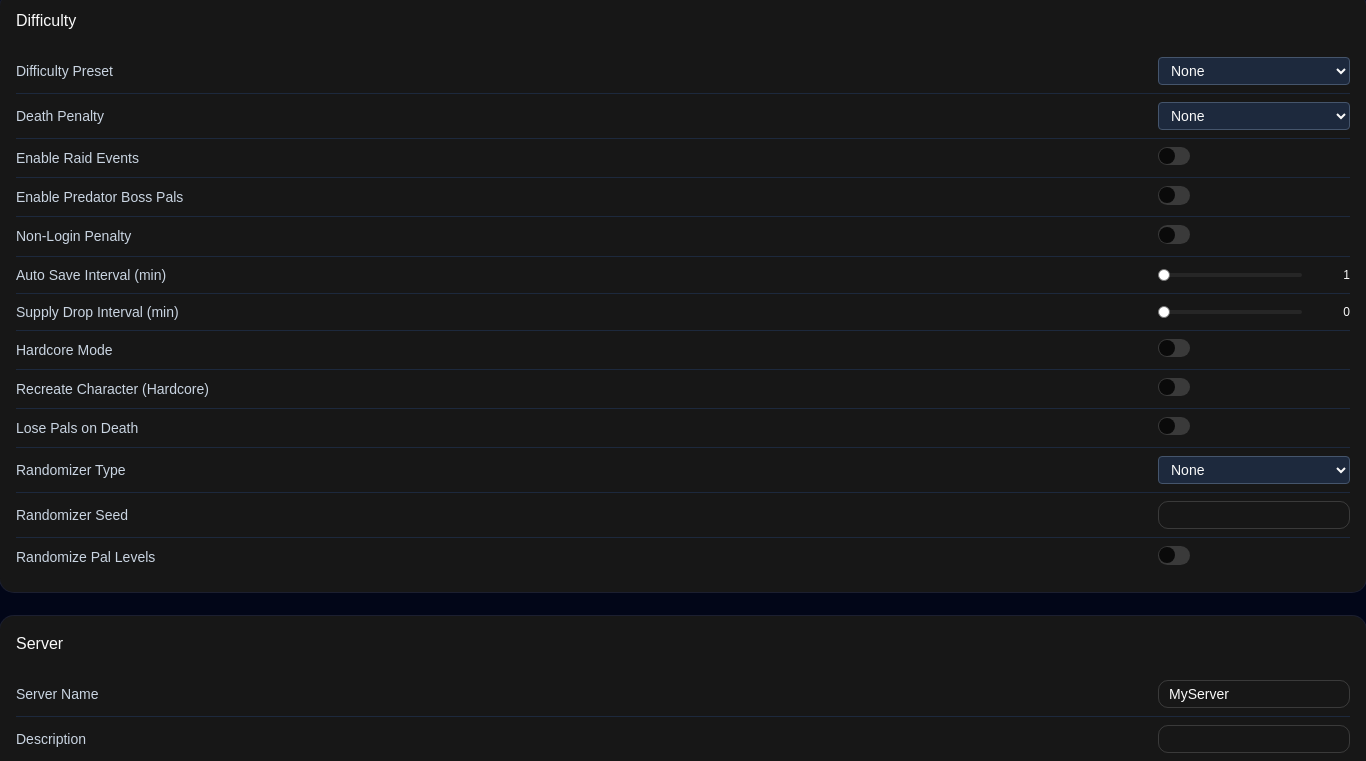
Scenario: ConfigPage save feedback › shows an error toast with the failure detail when saving fails
Replace the text in the field showing "MyServer" in the row of "Server Name" with "MyServer2" at point(1254, 694), box [1158,680,1350,708]
(page scrolled)
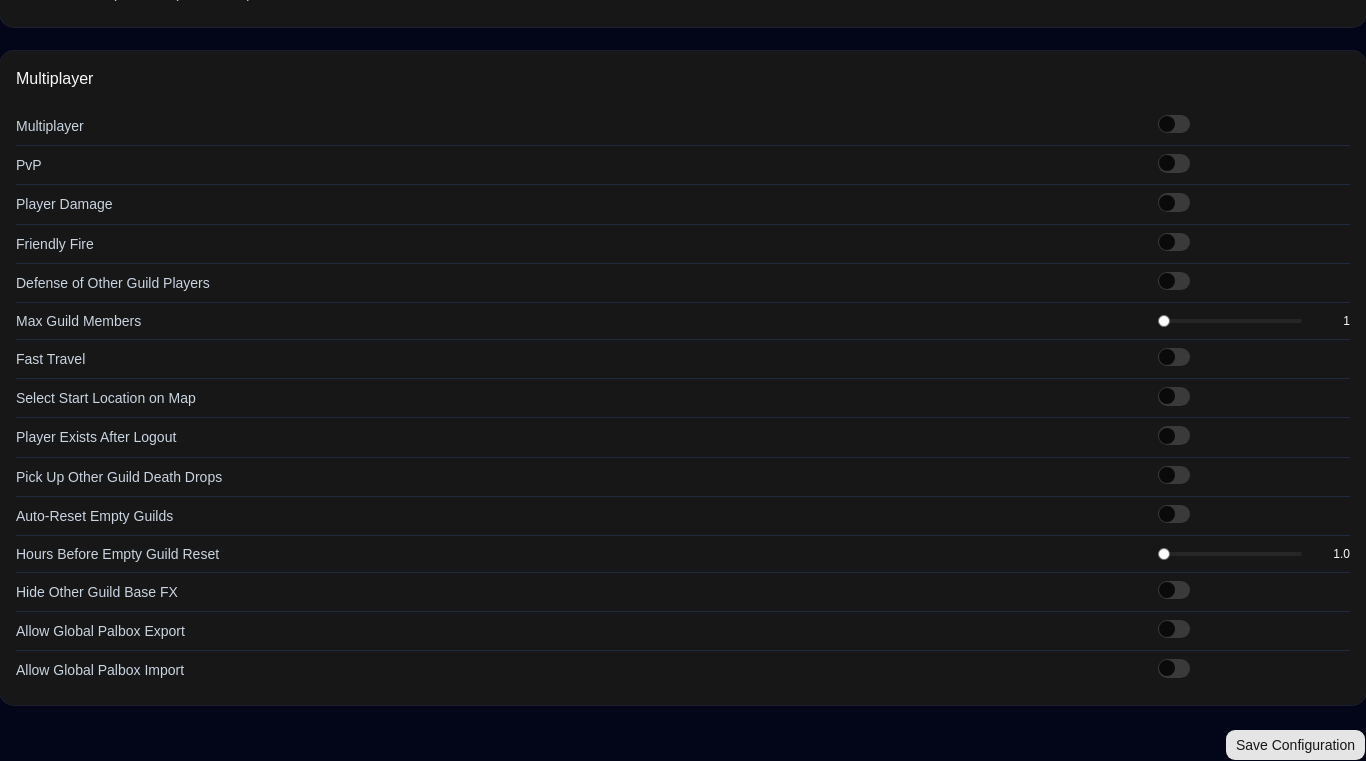
Click the button "Save Configuration" at point(1295, 745), box [1225,729,1365,760]
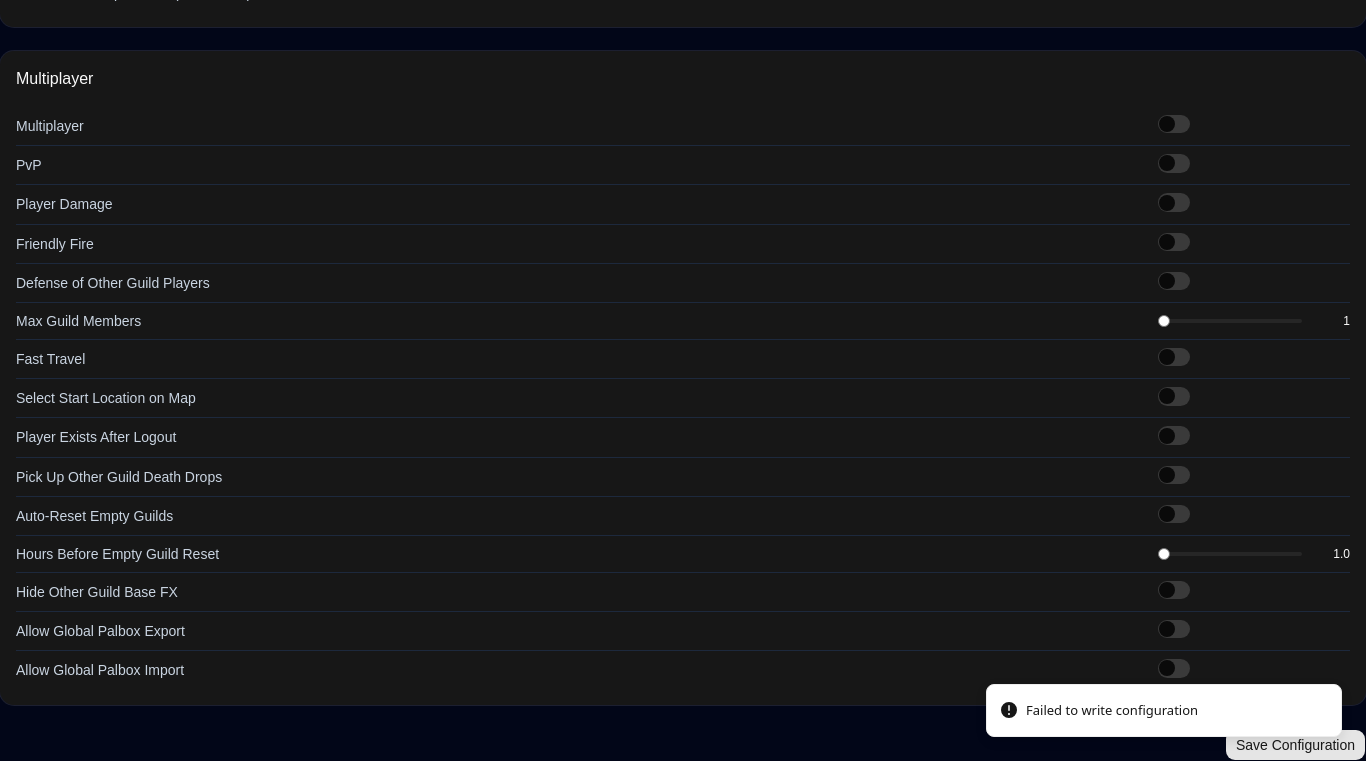
Expected: the text "Failed to write configuration" is shown, [1026,700,1198,720]
